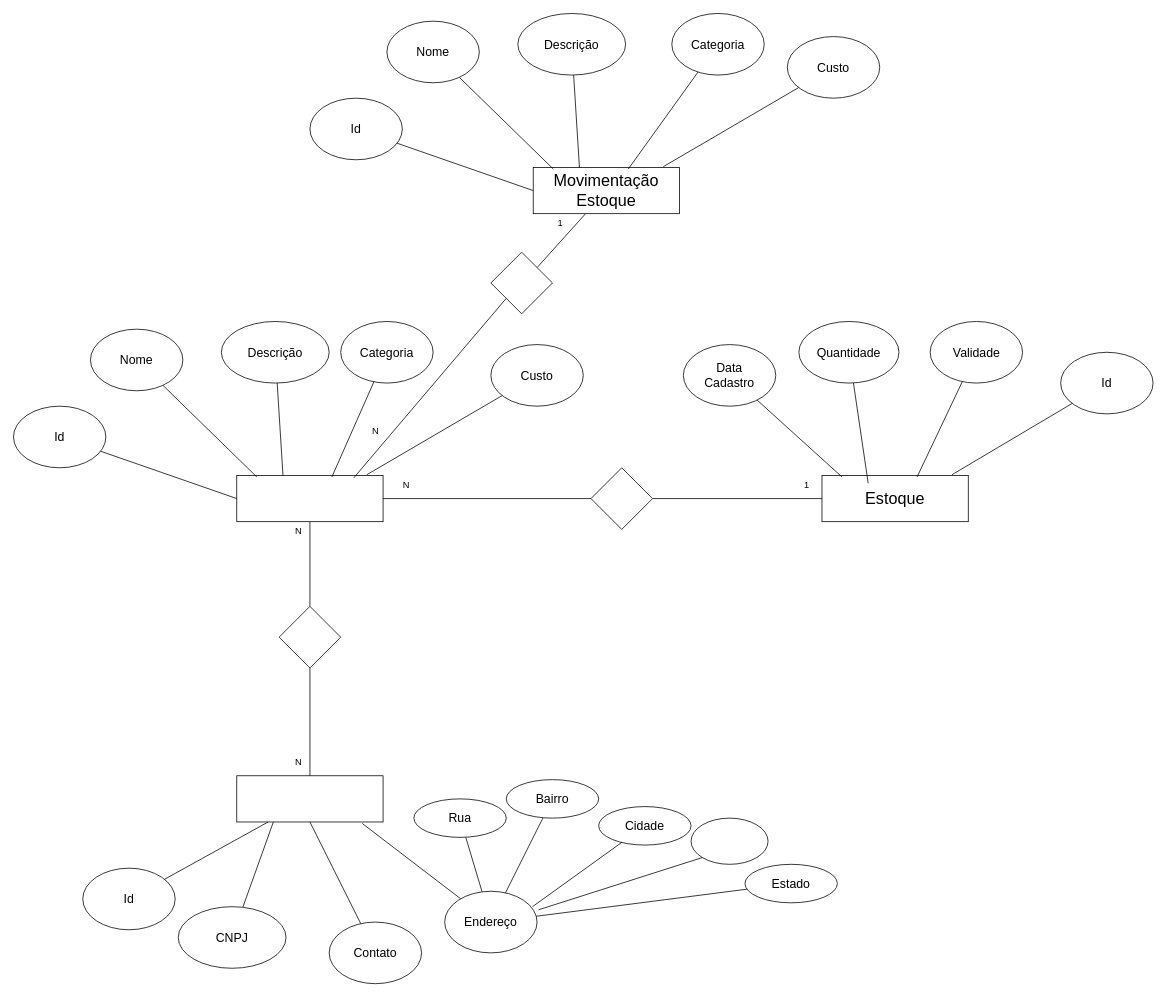
The diagram is 1167 pixels wide and 997 high, and some of its shapes have lost their labels. Here are the shapes that lost their labels. From the top down, the centre of each, then its label:
At [521,282]: "possui".
At [309,498]: "Produto".
At [621,498]: "esta em".
At [309,798]: "Fornecedor".
At [729,840]: "Número".
